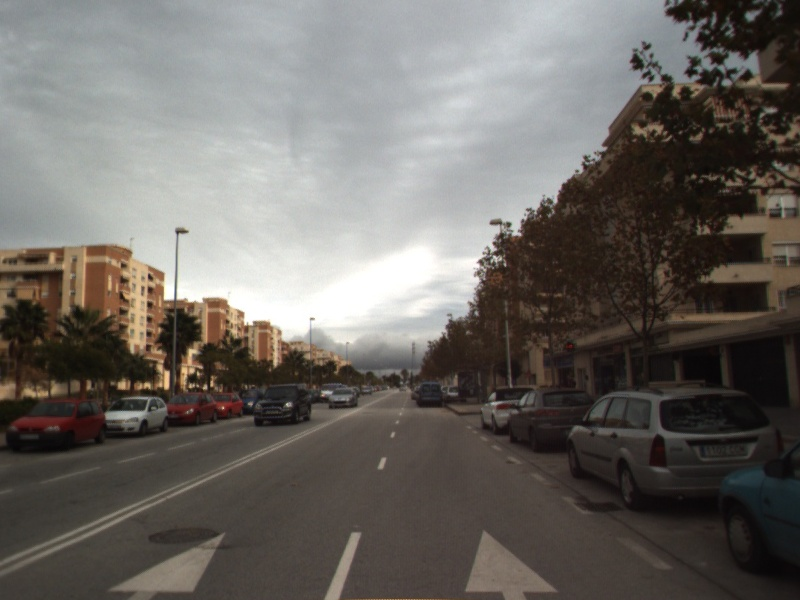STRAIGHT: (103, 528, 231, 600), (462, 527, 563, 600)
